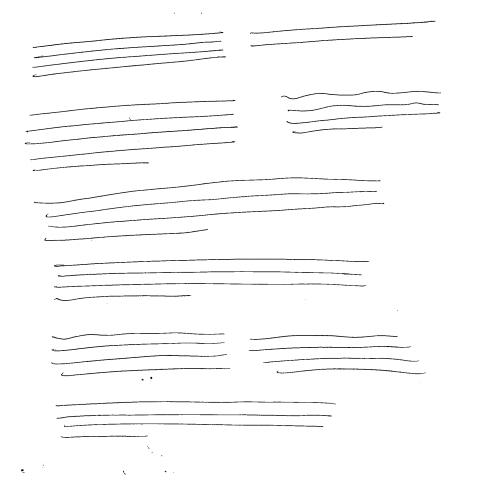Paragraph: (35, 178, 387, 243), (25, 100, 239, 173), (54, 259, 370, 303), (55, 402, 336, 440), (31, 31, 227, 79), (49, 332, 233, 378), (249, 335, 424, 376), (284, 92, 442, 136), (249, 21, 435, 50)
